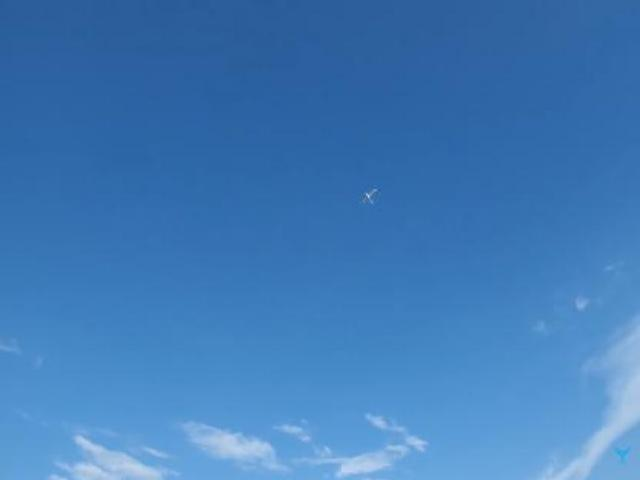uav: (354, 178, 384, 211)
